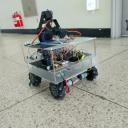cart: (20, 37, 98, 100)
